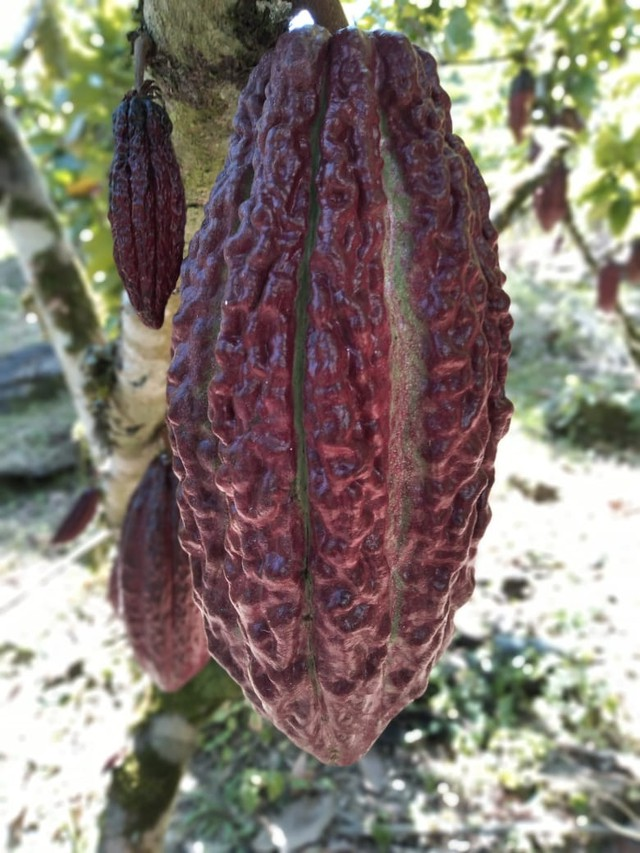Health: (147, 17, 528, 778)
